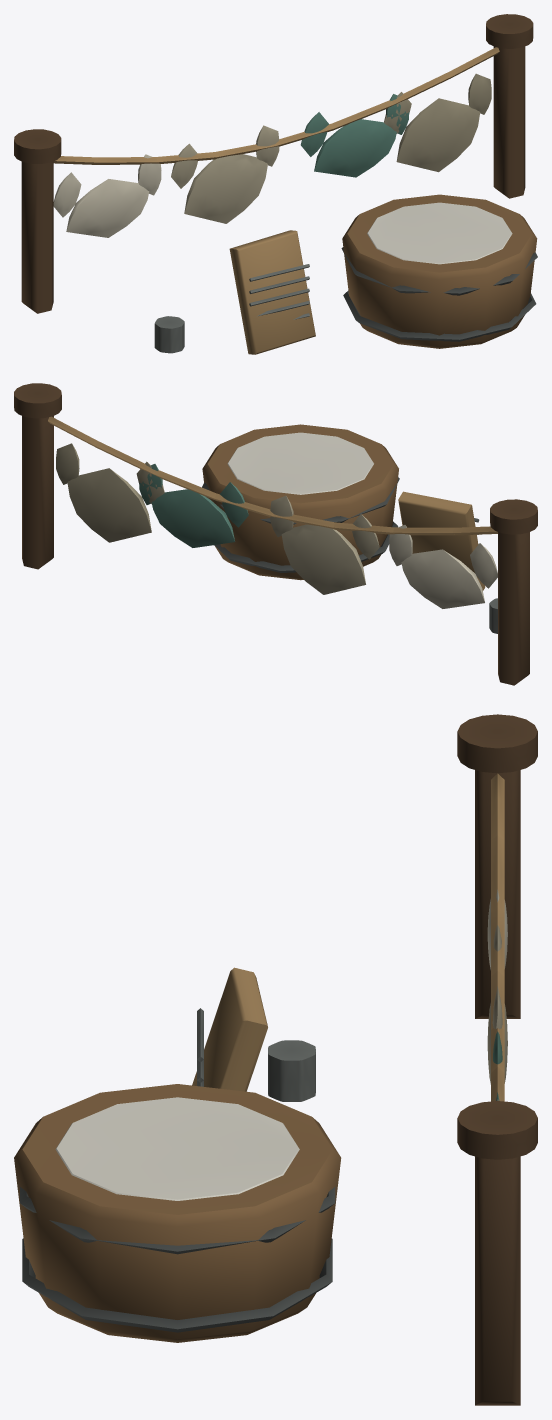
Rendered from washline_a.glb.
The picture shows the model from 3 angles, top to bottom: view 1: azimuth 30°, elevation 25°; view 2: azimuth 150°, elevation 25°; view 3: azimuth 270°, elevation 25°; orthographic projection. The views are drawn at different scales.
Parts seen in each view (by area): view 1: Surface; view 2: Surface; view 3: Surface.
Part boxes in pixels (<box>): Surface: <box>14,14,537,354</box>; Surface: <box>14,383,537,685</box>; Surface: <box>14,714,537,1405</box>.
Bounding box in the file's own units: 4.35 × 1.46 × 2.29.
